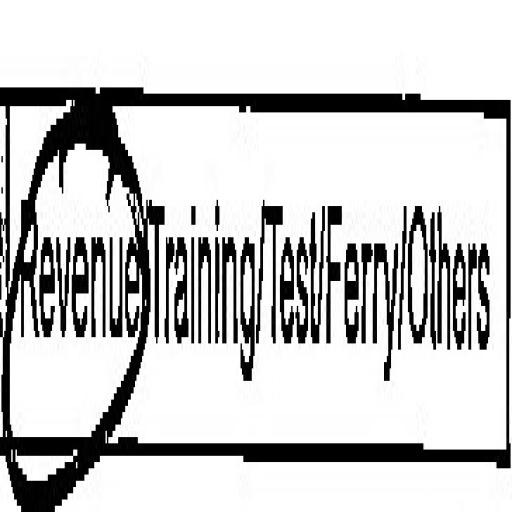check: (0, 0, 148, 512)
